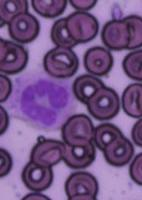N: (8, 70, 76, 130)
